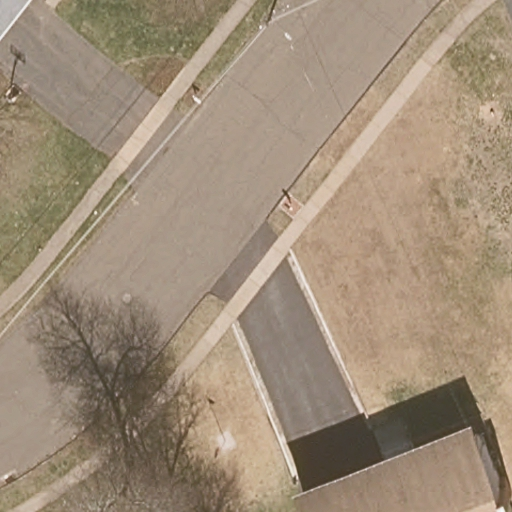DT: (268, 1, 280, 25)
